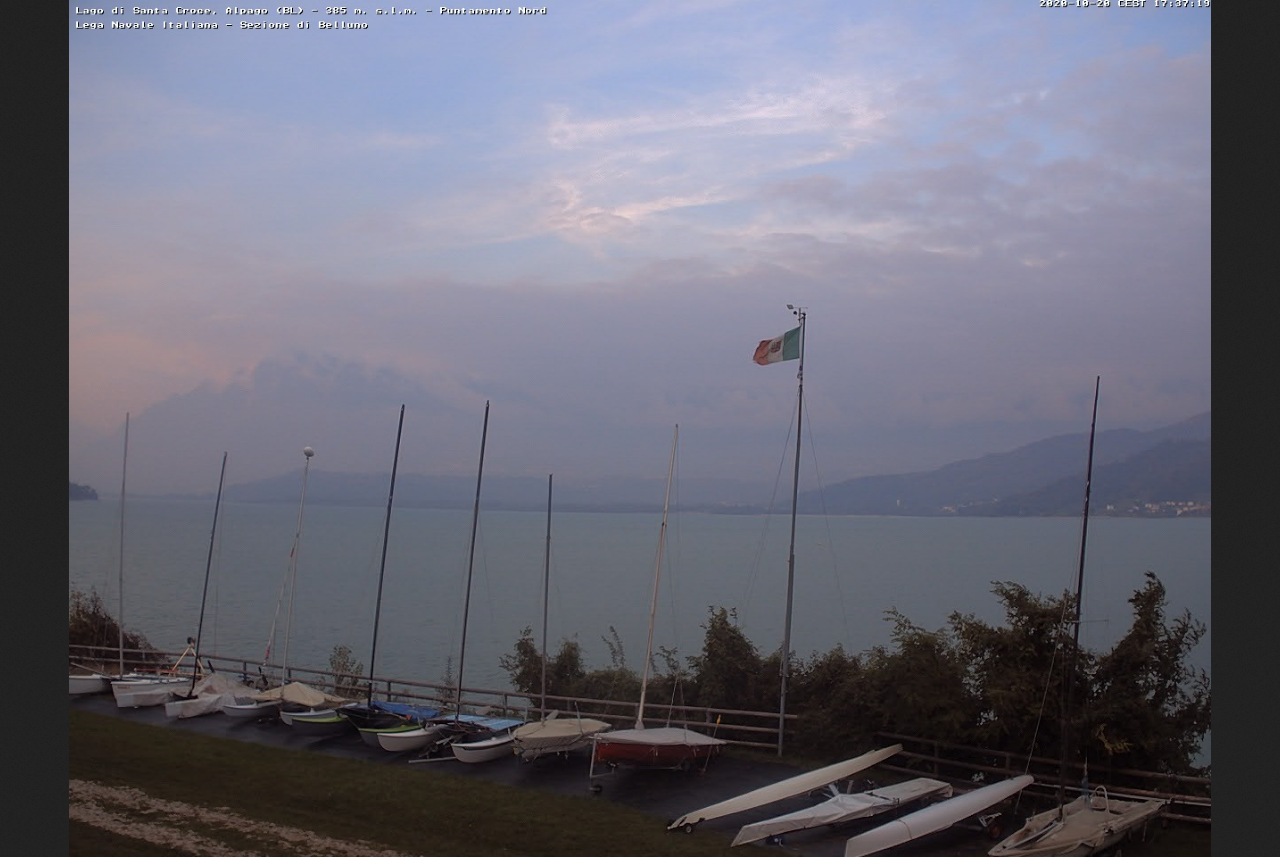yes: (750, 324, 800, 365)
